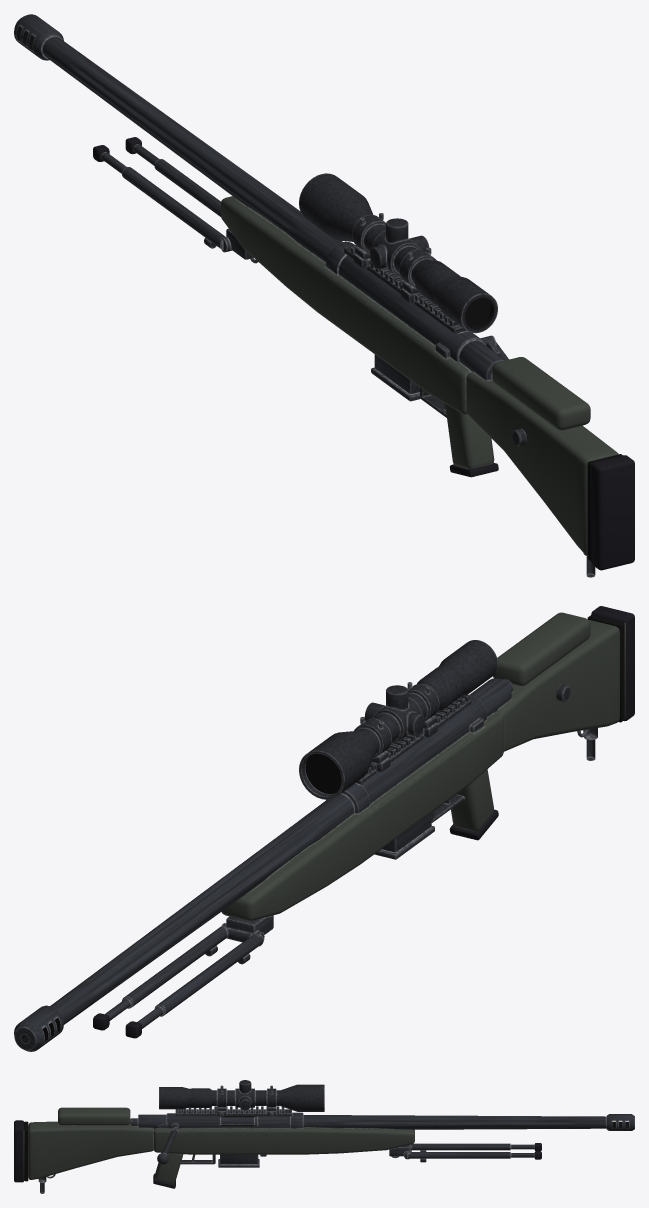
Rendered from sniper.glb.
3 views of the same model, one above another, from view 1: azimuth 30°, elevation 25°; view 2: azimuth 150°, elevation 25°; view 3: azimuth 270°, elevation 25° (orthographic). The views are drawn at different scales.
Parts seen in each view (by area): view 1: Sniper; view 2: Sniper; view 3: Sniper.
Boxes of the visible parts, left/top/right/bottom form: Sniper: left=14, top=14, right=634, bottom=577; Sniper: left=14, top=606, right=634, bottom=1051; Sniper: left=14, top=1080, right=634, bottom=1193.
Size of the model in its own units: 0.0995 by 0.236 by 1.2.
Materials: 1 (1 with a texture image).
